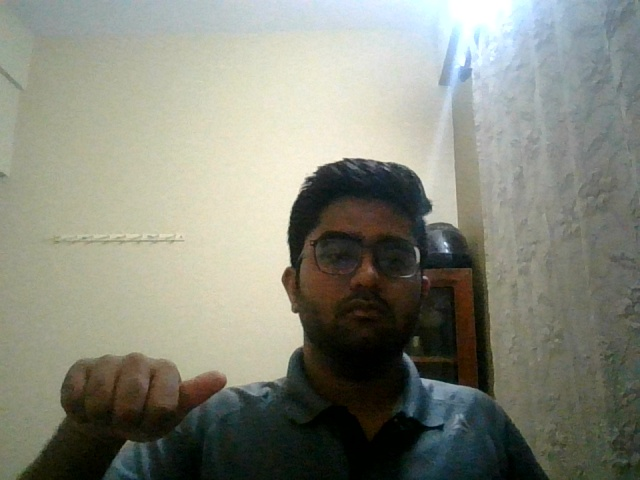Yes: (49, 342, 233, 460)
